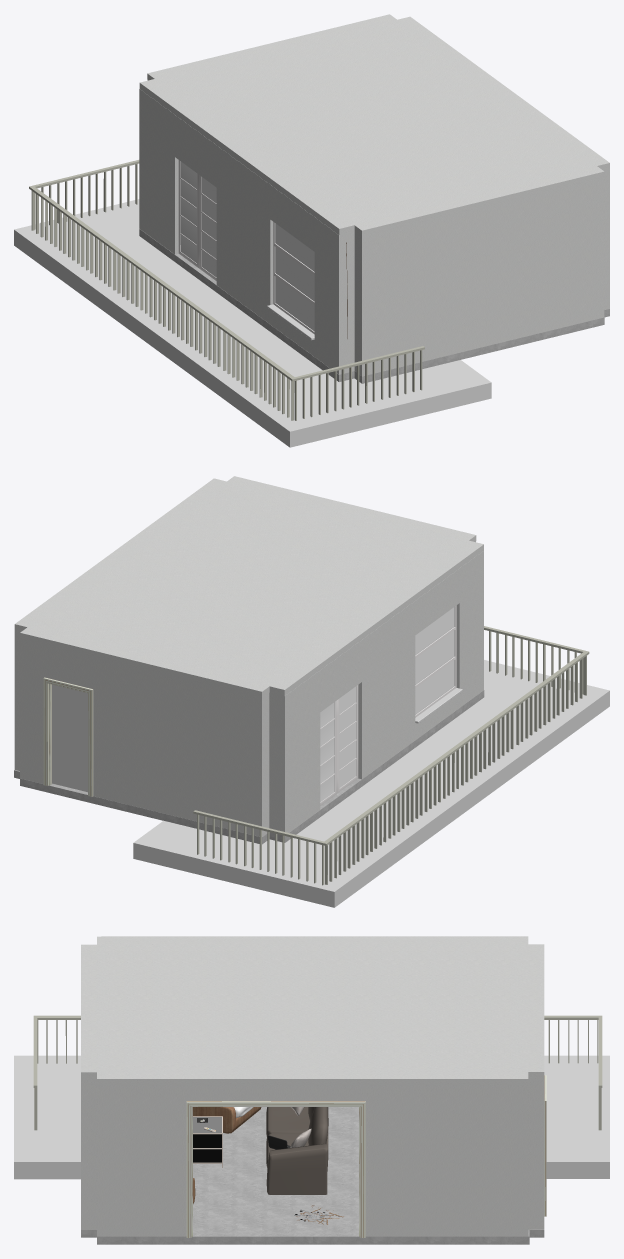
File: FloorPlan201_physics.fbx
The picture shows the model from 3 angles, top to bottom: view 1: azimuth 30°, elevation 25°; view 2: azimuth 150°, elevation 25°; view 3: azimuth 270°, elevation 25°; orthographic projection. The views are drawn at different scales.
Parts seen in each view (by area): view 1: FP201:Ceiling.009, FP201:Room.001, FP201:Cube.801, FP201:Cube.802, FP201:Floor, FP201:polySurface16, FP201:polySurface19, FP201:polySurface10, FP201:polySurface18, FP201:polySurface29; view 2: FP201:Ceiling.009, FP201:Room.001, FP201:Cube.801, FP201:Cube.802, FP201:Floor, FP201:Door.003, FP201:polySurface16, FP201:DoorFrame, FP201:polySurface10, FP201:polySurface19, FP201:polySurface18, FP201:polySurface2; view 3: FP201:Ceiling.009, FP201:Room.001, FP201:Floor, FP201:Cube.801, FP201:Base1, FP201:DoorFrame1, FP201:Cube.802, FP201:Base14, FP201:DoorFrame.
Part boxes in pixels (box(x1,y1,x2,y2)): FP201:Ceiling.009: box(139, 14, 609, 236); FP201:Room.001: box(139, 80, 609, 376); FP201:Cube.801: box(14, 199, 491, 447); FP201:Cube.802: box(29, 160, 424, 420); FP201:Floor: box(139, 229, 609, 383); FP201:polySurface16: box(275, 224, 314, 330); FP201:polySurface19: box(180, 161, 196, 262); FP201:polySurface10: box(202, 177, 216, 277); FP201:polySurface18: box(267, 222, 314, 340); FP201:polySurface29: box(178, 160, 199, 268); FP201:Ceiling.009: box(14, 476, 483, 697); FP201:Room.001: box(14, 542, 483, 836); FP201:Cube.801: box(133, 660, 609, 907); FP201:Cube.802: box(193, 626, 589, 885); FP201:Floor: box(14, 690, 484, 844); FP201:Door.003: box(52, 684, 87, 792); FP201:polySurface16: box(415, 607, 454, 713); FP201:DoorFrame: box(43, 677, 93, 796); FP201:polySurface10: box(339, 686, 355, 787); FP201:polySurface19: box(320, 702, 334, 802); FP201:polySurface18: box(415, 605, 462, 723); FP201:polySurface2: box(337, 685, 358, 793); FP201:Ceiling.009: box(81, 936, 544, 1085); FP201:Room.001: box(81, 1079, 544, 1236); FP201:Floor: box(81, 1107, 544, 1244); FP201:Cube.801: box(14, 1055, 609, 1179); FP201:Base1: box(266, 1107, 328, 1194); FP201:DoorFrame1: box(186, 1101, 365, 1237); FP201:Cube.802: box(33, 1015, 602, 1130); FP201:Base14: box(193, 1107, 261, 1133); FP201:DoorFrame: box(544, 1075, 546, 1216).
Bounding box in the file's own units: 697 × 313 × 923.
